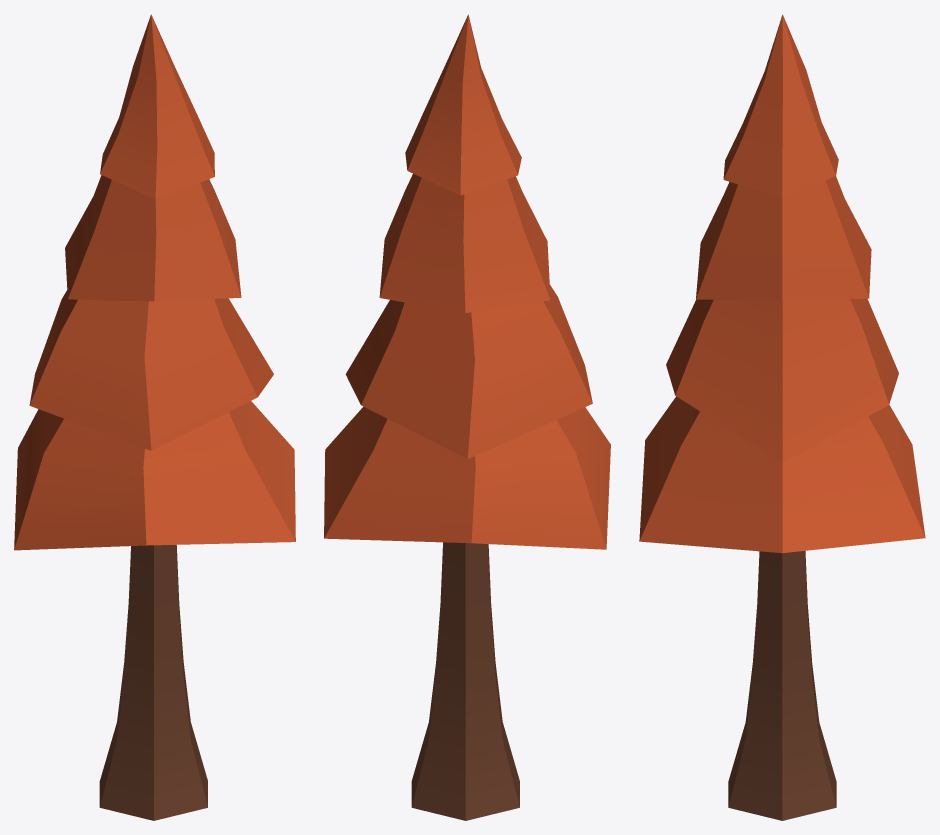
File: Pine_Tree_Red_Geo.fbx
3 renders of one model, left to right at view 1: azimuth 30°, elevation 25°; view 2: azimuth 150°, elevation 25°; view 3: azimuth 270°, elevation 25°, orthographic.
Visible parts, largest first — view 1: Pine_Tree_Red_Geo; view 2: Pine_Tree_Red_Geo; view 3: Pine_Tree_Red_Geo.
Part boxes in pixels (<box>): Pine_Tree_Red_Geo: <box>14,14,295,820</box>; Pine_Tree_Red_Geo: <box>324,14,610,820</box>; Pine_Tree_Red_Geo: <box>639,14,925,820</box>.
Size of the model in its own units: 113 by 300 by 99.71.
